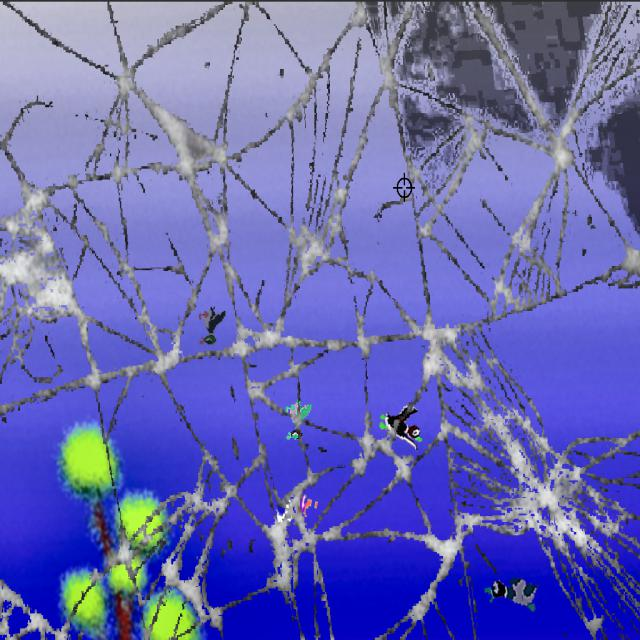duck: (374, 400, 425, 454), (483, 573, 540, 615), (270, 486, 320, 526)
falling_duck: (278, 389, 314, 443), (198, 303, 224, 350)
